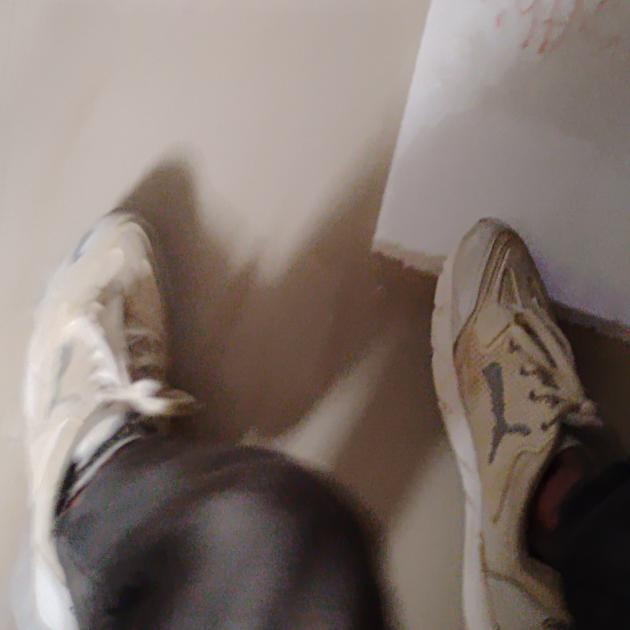shoes: (37, 163, 630, 630)
